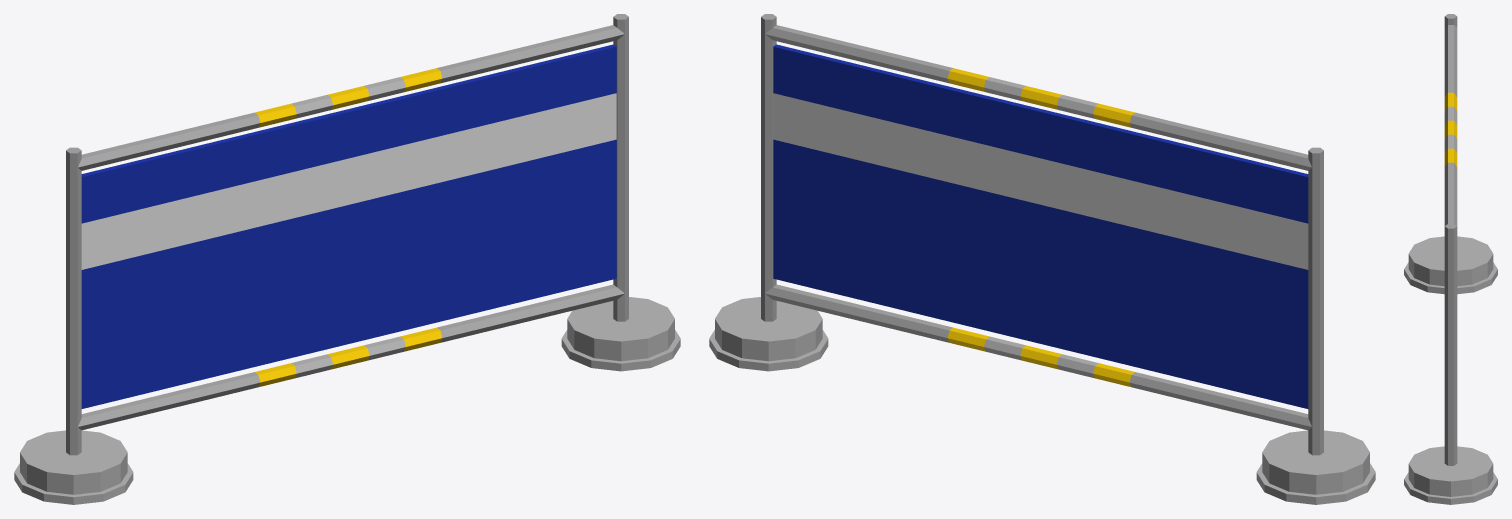
File: Fence.fbx
3 views of the same model, side by side, from view 1: azimuth 30°, elevation 25°; view 2: azimuth 150°, elevation 25°; view 3: azimuth 270°, elevation 25° (orthographic). The views are drawn at different scales.
Visible parts, largest first — view 1: Cube; view 2: Cube; view 3: Cube.
Boxes of the visible parts, x1=… form: Cube: x1=14, y1=14, x2=680, y2=504; Cube: x1=709, y1=14, x2=1375, y2=504; Cube: x1=1404, y1=14, x2=1497, y2=504.
Bounding box in the file's own units: 238 × 115 × 37.74.
